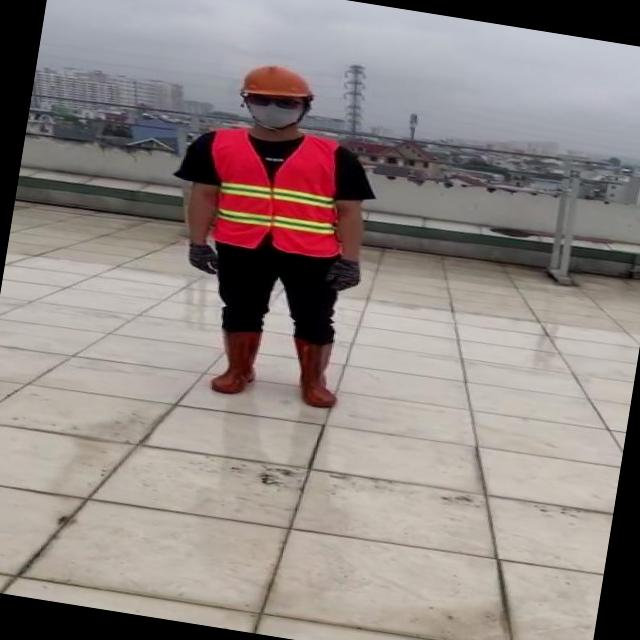boots: (282, 336, 351, 411), (204, 322, 265, 401)
helmet: (236, 59, 318, 104)
vest: (194, 120, 353, 260)
